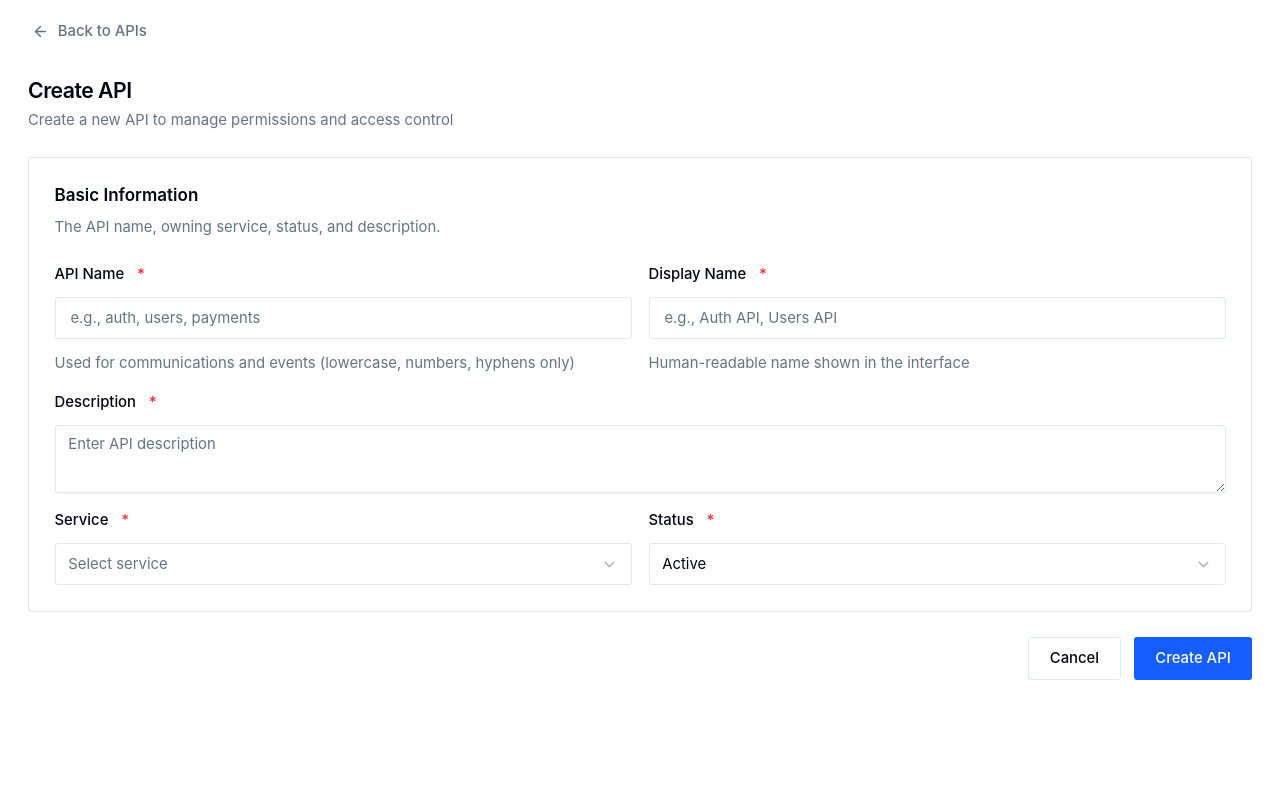
Test: ApiAddOrUpdateForm › shows validation errors for blank required fields on create
What coordinates should you click on to do the following:
click the button "Create API"
I would click on:
 (1193, 659)
Its box is x1=1134 y1=637 x2=1252 y2=680.
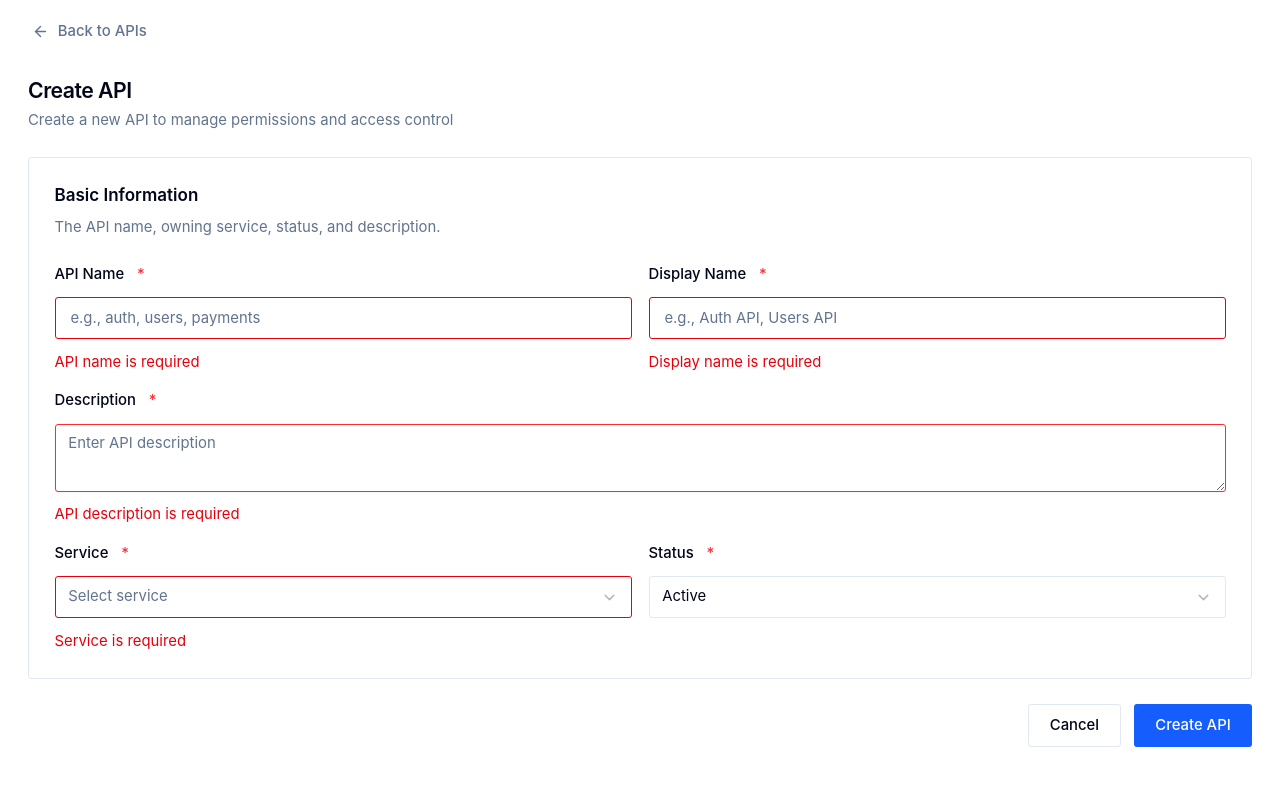
Now the text "API name is required" is shown, box x1=54 y1=353 x2=200 y2=371
Now the text "Display name is required" is shown, box x1=648 y1=353 x2=821 y2=371
